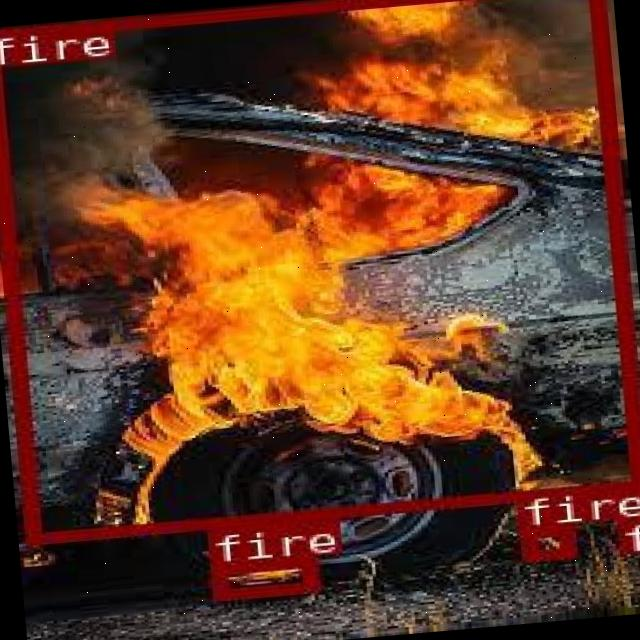fire: (0, 0, 640, 543), (206, 554, 314, 598), (518, 522, 572, 558), (615, 513, 640, 548)
